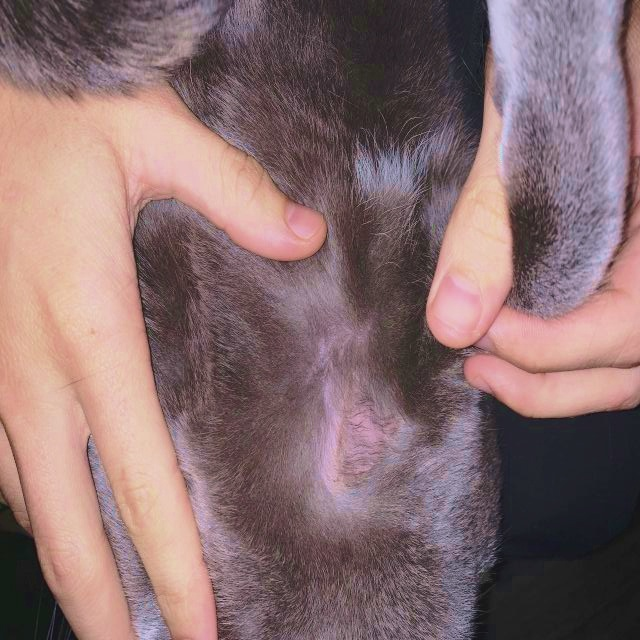hairloss: (317, 376, 410, 505)
